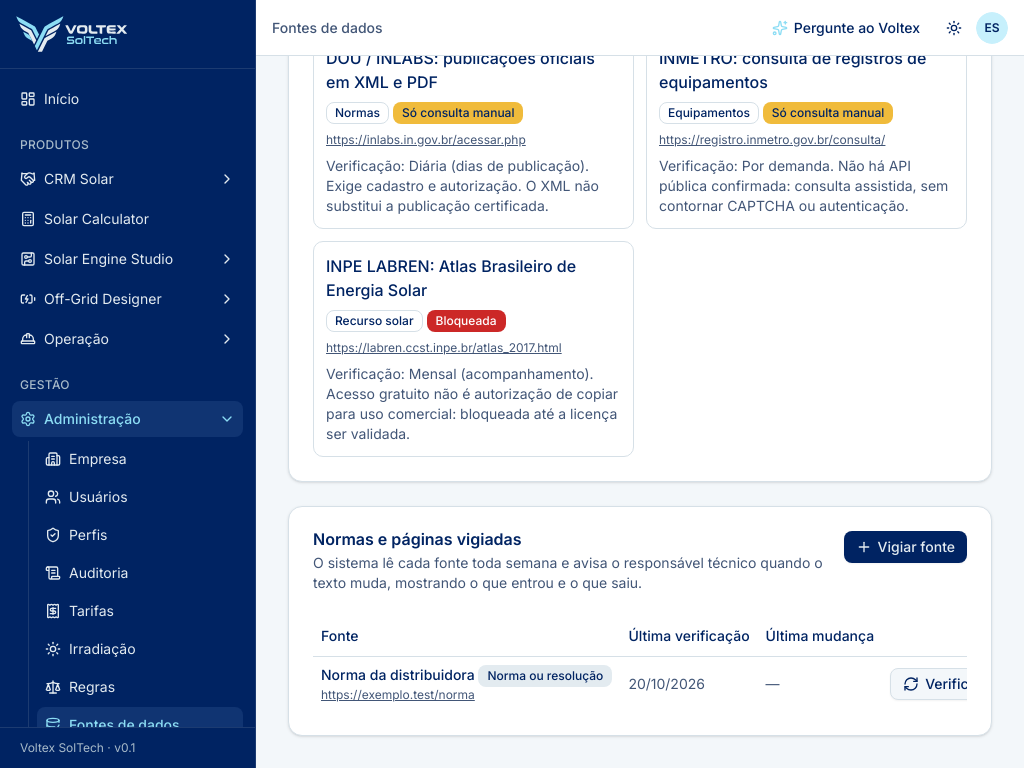
Test: Administração → Fontes de dados › endereço interno é recusado pelo servidor e aparece no campo
(page scrolled)
Click the button "Vigiar fonte" at (905, 546), box left=844, top=530, right=967, bottom=562
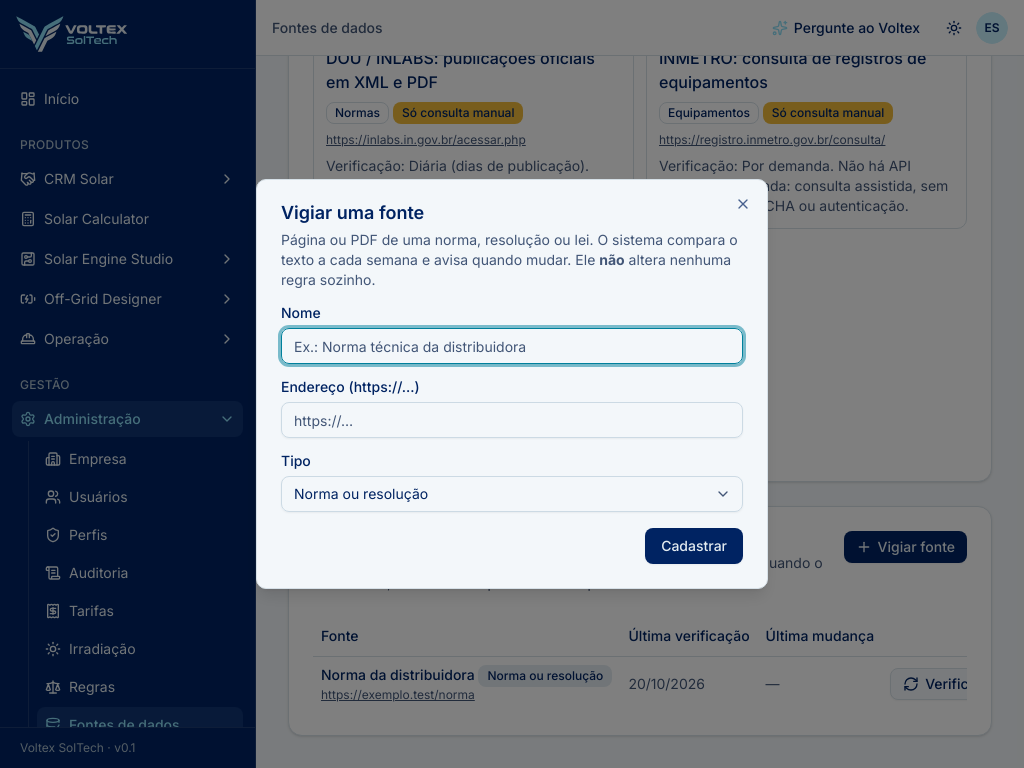
Type "Interna" into the field labelled "Nome" at (512, 346), box left=281, top=328, right=743, bottom=364
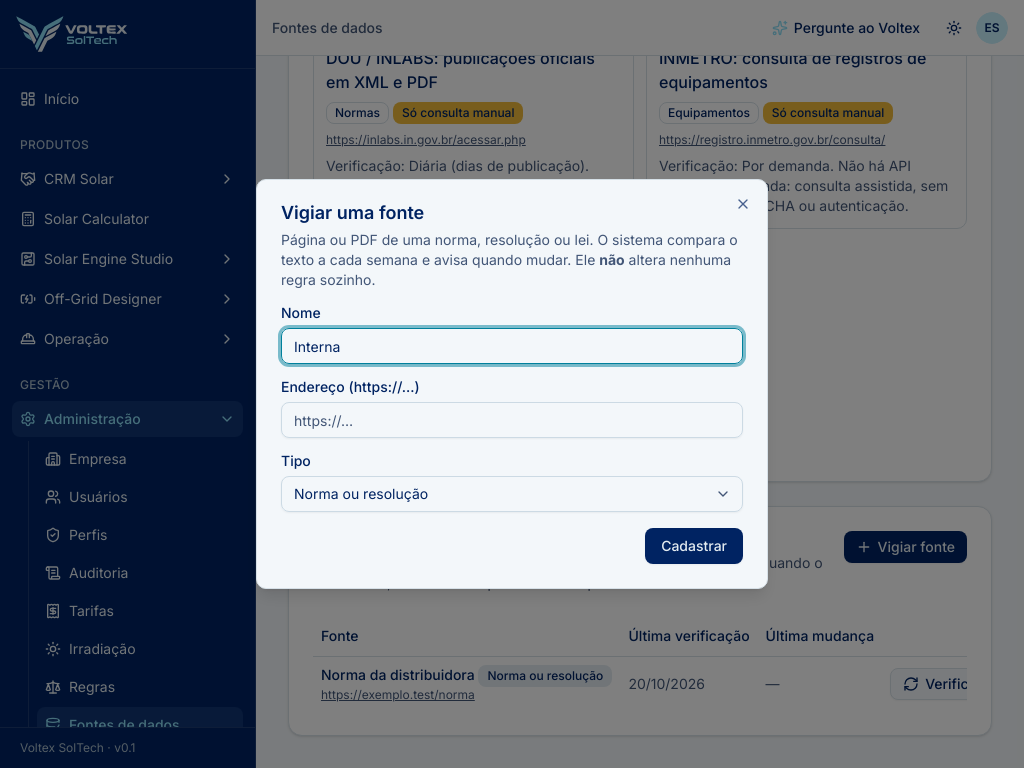
Type "http://localhost/x" into the field labelled "Endereço (https://…)" at (512, 420), box left=281, top=402, right=743, bottom=438
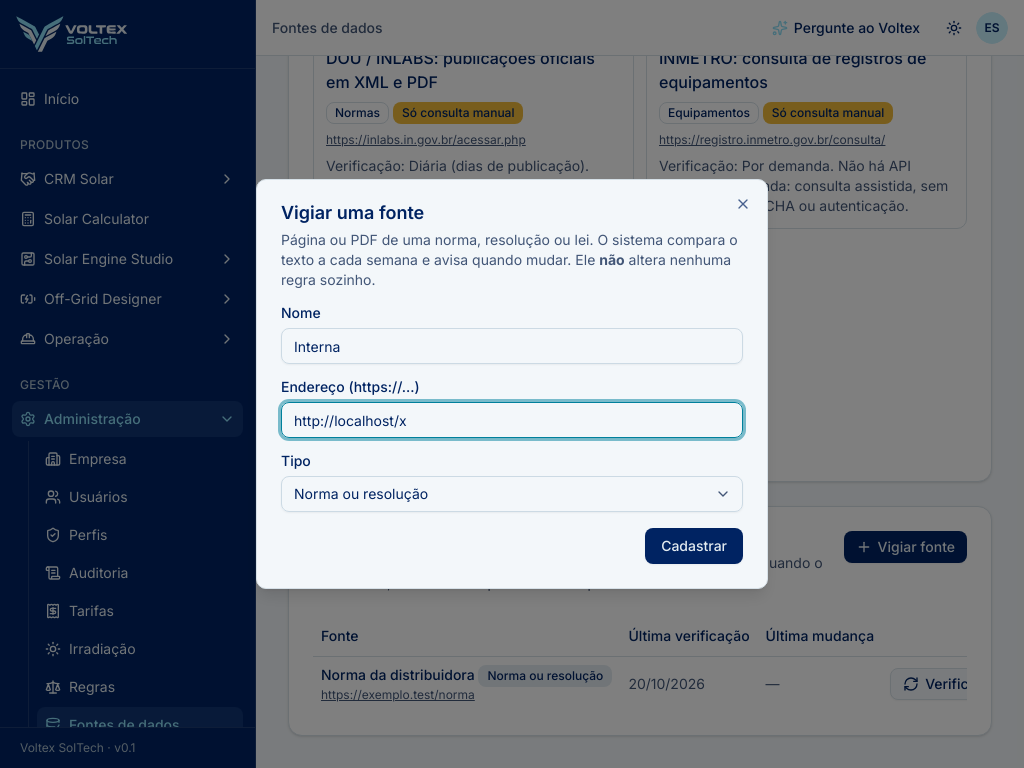
Click the button "Cadastrar" at (694, 546), box left=645, top=528, right=743, bottom=564
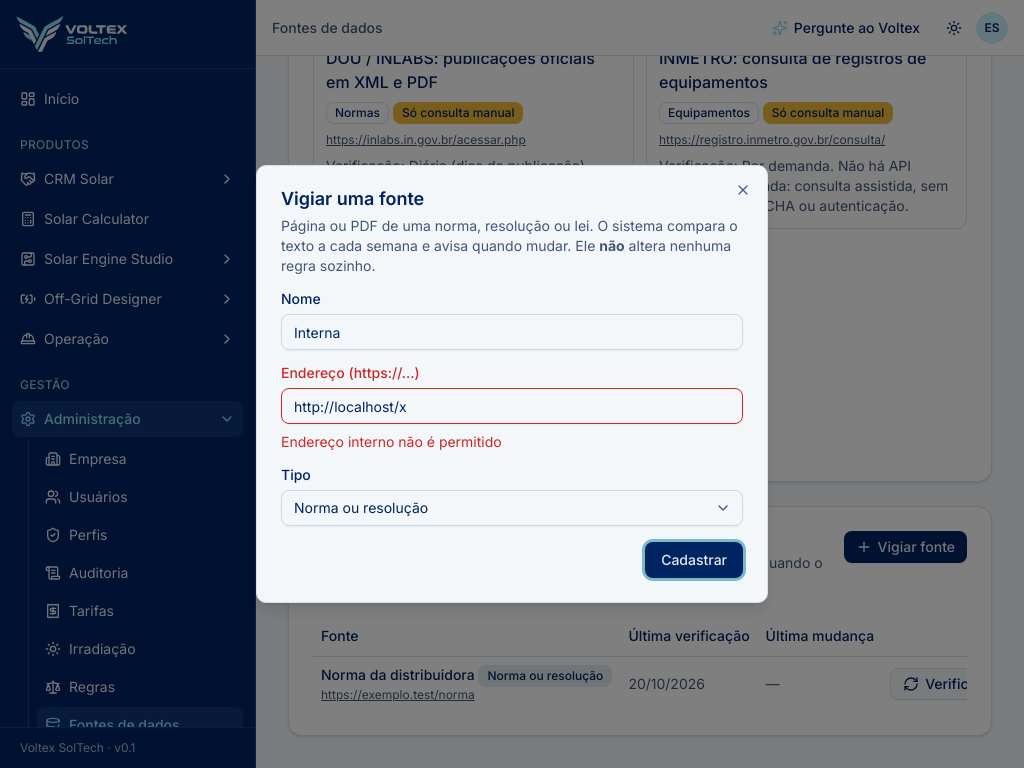
Expected: the text "Endereço interno não é permitido" is shown, left=281, top=433, right=502, bottom=450
